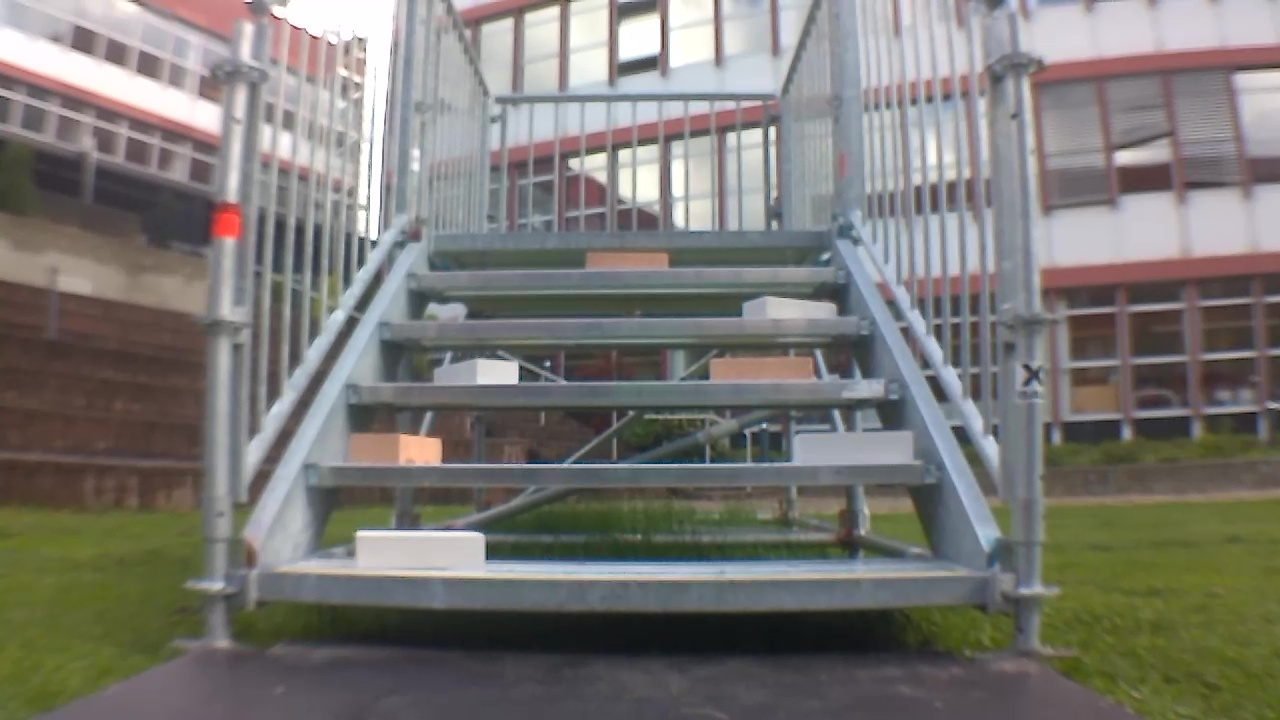brick: (353, 525, 488, 575), (794, 431, 914, 464), (349, 429, 450, 462), (709, 356, 814, 382), (433, 355, 520, 385), (585, 249, 673, 272), (742, 298, 840, 318)
edge: (252, 568, 999, 603), (300, 458, 945, 489), (344, 375, 908, 404), (375, 316, 876, 341), (426, 230, 829, 254), (401, 267, 850, 287)
stairs: (213, 0, 1019, 646)
steps: (246, 232, 997, 614)
